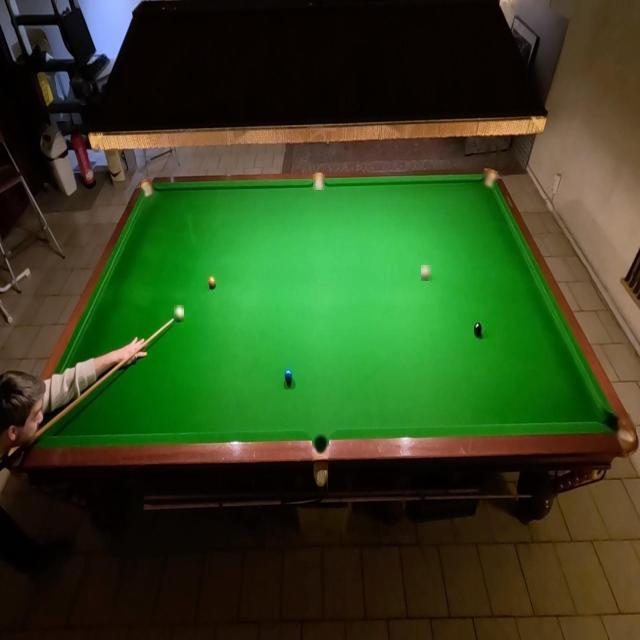Ball: (283, 367, 294, 387), (474, 320, 484, 338), (174, 305, 184, 322), (422, 266, 432, 282), (206, 276, 216, 292)
Pocket: (603, 414, 636, 452), (312, 434, 329, 456), (482, 171, 498, 190), (141, 180, 155, 199), (313, 174, 325, 190)
